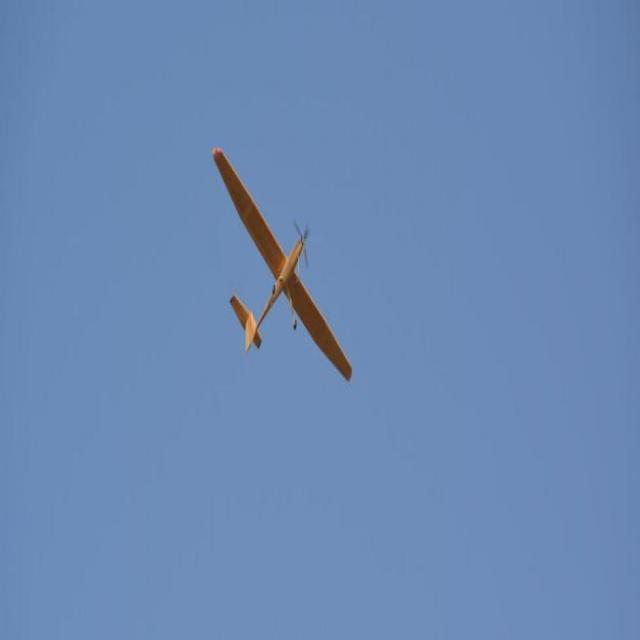iha: (194, 128, 367, 390)
